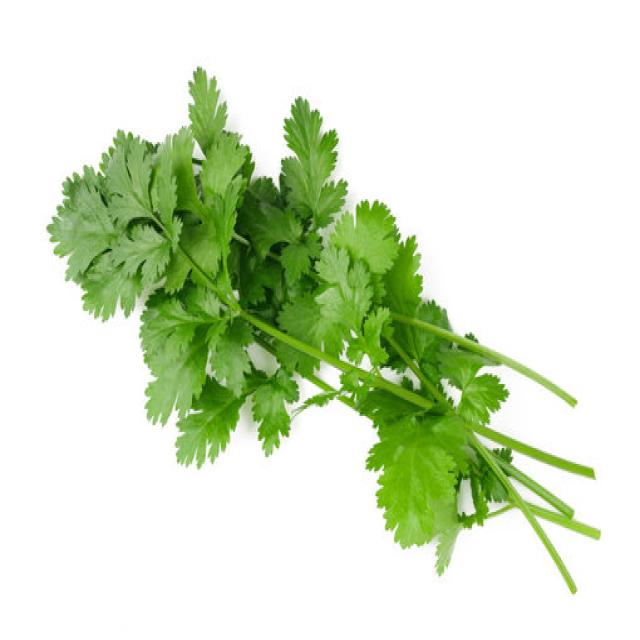Coriander Leaves: (47, 64, 601, 594)
